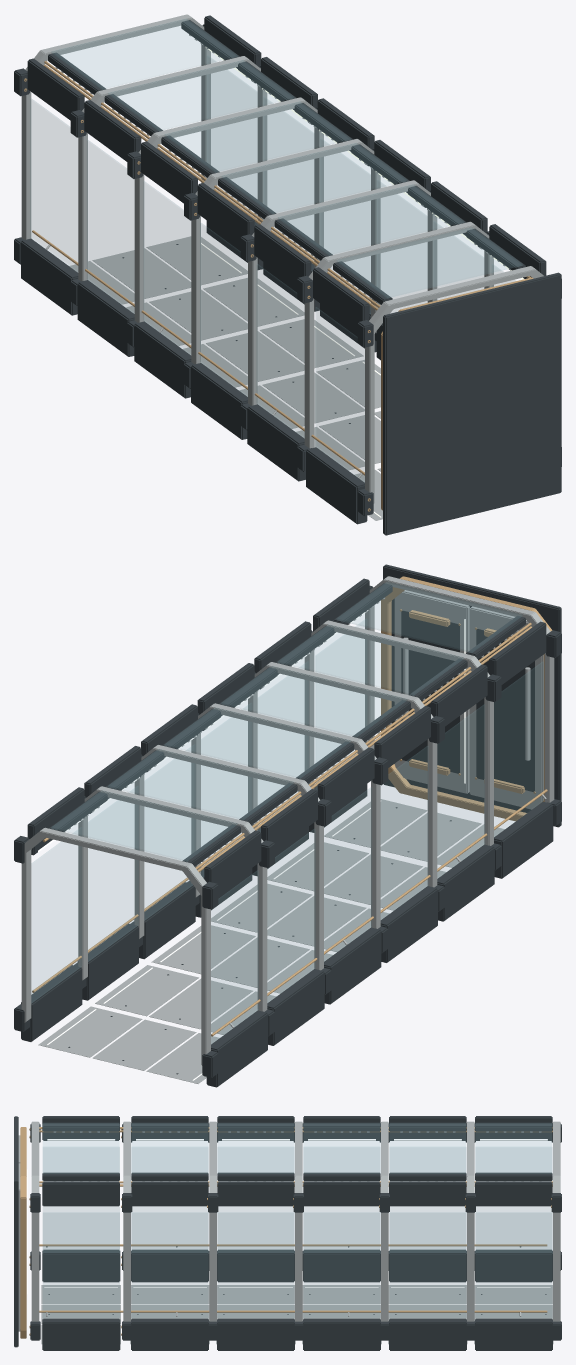
3 views of the same model, one above another, from view 1: azimuth 30°, elevation 25°; view 2: azimuth 150°, elevation 25°; view 3: azimuth 270°, elevation 25° (orthographic). The views are drawn at different scales.
Parts seen in each view (by area): view 1: A-capsule-basalt, A-capsule-glass, A-capsule-metal, A-capsule-bronze; view 2: A-capsule-glass, A-capsule-metal, A-capsule-basalt, A-capsule-bronze, A-capsule-luminous; view 3: A-capsule-glass, A-capsule-basalt, A-capsule-metal, A-capsule-bronze, A-capsule-luminous.
Boxes of the visible parts, left/top/right/bottom form: A-capsule-basalt: left=14, top=15, right=561, bottom=535; A-capsule-glass: left=30, top=18, right=522, bottom=481; A-capsule-metal: left=21, top=14, right=543, bottom=520; A-capsule-bronze: left=24, top=61, right=533, bottom=511; A-capsule-glass: left=31, top=582, right=543, bottom=1043; A-capsule-metal: left=21, top=576, right=554, bottom=1083; A-capsule-basalt: left=14, top=564, right=561, bottom=1087; A-capsule-bronze: left=32, top=576, right=552, bottom=1036; A-capsule-luminous: left=38, top=610, right=465, bottom=1080; A-capsule-glass: left=43, top=1123, right=552, bottom=1317; A-capsule-basalt: left=14, top=1116, right=561, bottom=1350; A-capsule-metal: left=18, top=1121, right=560, bottom=1344; A-capsule-bronze: left=20, top=1127, right=552, bottom=1338; A-capsule-luminous: left=27, top=1139, right=550, bottom=1294.
Bounding box in the file's own units: 4.56 × 4.83 × 14.35.
